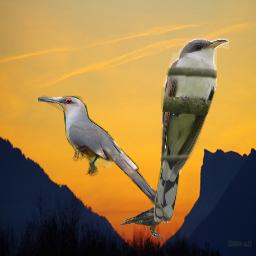Crow: (120, 195, 175, 238)
Cuckoo: (38, 95, 168, 210), (154, 38, 229, 223)
